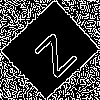Z: (25, 25, 79, 79)
